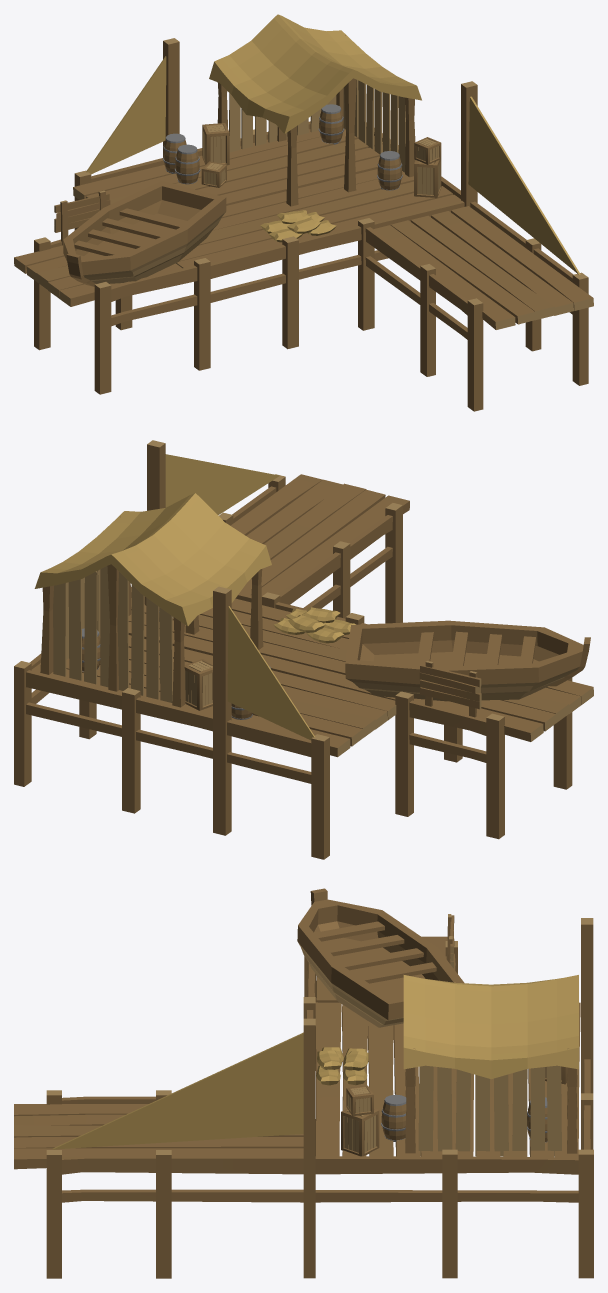
Rendered from Port.glb.
The picture shows the model from 3 angles, top to bottom: view 1: azimuth 30°, elevation 25°; view 2: azimuth 150°, elevation 25°; view 3: azimuth 270°, elevation 25°; orthographic projection. The views are drawn at different scales.
Parts seen in each view (by area): view 1: Port_FirstAge_Level2; view 2: Port_FirstAge_Level2; view 3: Port_FirstAge_Level2.
Part boxes in pixels (x1=…): Port_FirstAge_Level2: x1=14, y1=14, x2=593, y2=411; Port_FirstAge_Level2: x1=14, y1=440, x2=593, y2=859; Port_FirstAge_Level2: x1=14, y1=888, x2=593, y2=1278.
Bounding box in the file's own units: 1.84 × 0.9712 × 1.98.
